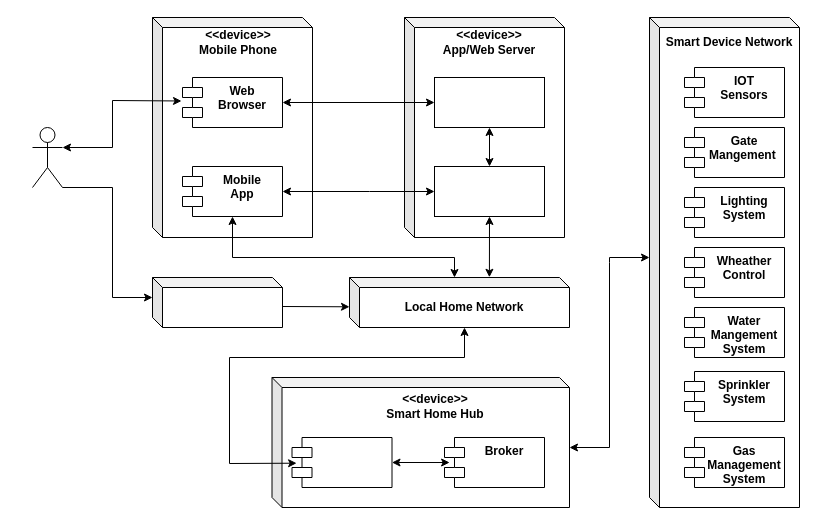
The diagram is 817 pixels wide and 525 high, and some of its shapes have lost their labels. The centre of each missing label's shape, as x and y in pixels:
"<<device>> Smart Speakers" belongs at [217,302].
"Controller" belongs at [341,462].
"Smart Home User" belongs at [47,157].
"«artifact» GUI Web Page" belongs at [489,102].
"«artifact» Smart Home Application" belongs at [489,191].
